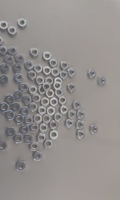nut: (15, 161, 27, 172), (32, 151, 43, 162), (23, 95, 33, 107), (20, 106, 30, 118), (17, 18, 27, 29), (5, 127, 16, 137), (13, 134, 23, 145), (14, 72, 24, 83), (12, 62, 22, 73), (39, 123, 49, 134), (76, 110, 86, 121), (59, 95, 68, 107), (7, 26, 17, 36), (30, 123, 40, 133), (0, 63, 10, 73), (4, 54, 14, 64), (5, 95, 15, 105), (10, 103, 20, 113), (15, 115, 25, 125), (33, 114, 43, 124), (76, 120, 86, 130), (53, 81, 63, 91), (35, 75, 45, 85), (54, 78, 64, 88), (30, 141, 39, 152), (0, 102, 9, 113), (50, 130, 59, 141), (25, 60, 34, 71), (43, 51, 52, 62), (14, 90, 23, 101), (29, 102, 38, 113), (25, 115, 34, 126), (50, 97, 59, 108), (72, 101, 83, 110), (46, 75, 55, 86), (0, 20, 9, 30), (88, 69, 97, 79), (98, 76, 107, 86), (67, 83, 76, 93), (90, 125, 99, 135), (76, 129, 85, 139), (0, 75, 9, 85), (65, 119, 74, 129), (37, 133, 46, 143), (34, 64, 43, 74), (28, 70, 37, 80), (5, 112, 15, 121), (49, 121, 59, 130), (41, 98, 51, 107), (38, 85, 47, 95), (32, 94, 42, 103), (68, 110, 77, 120), (43, 114, 52, 124), (0, 45, 8, 56), (52, 67, 60, 78), (61, 104, 69, 115), (44, 140, 53, 149), (15, 54, 24, 63), (43, 66, 52, 75), (47, 107, 56, 116), (25, 135, 33, 145), (31, 47, 39, 57), (9, 46, 17, 56), (19, 84, 29, 92), (50, 58, 58, 68), (29, 85, 37, 95), (0, 141, 7, 152), (69, 67, 76, 78), (61, 61, 69, 70), (61, 70, 69, 79), (39, 106, 46, 116), (44, 82, 51, 92), (46, 90, 54, 98), (56, 90, 64, 96), (0, 36, 4, 46)
